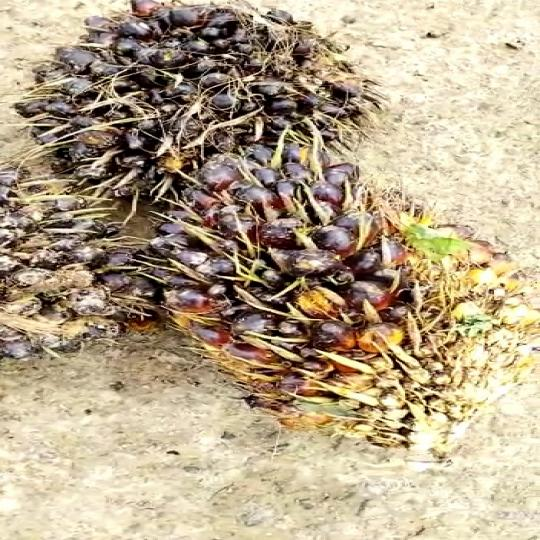mentah: (25, 0, 540, 460)
